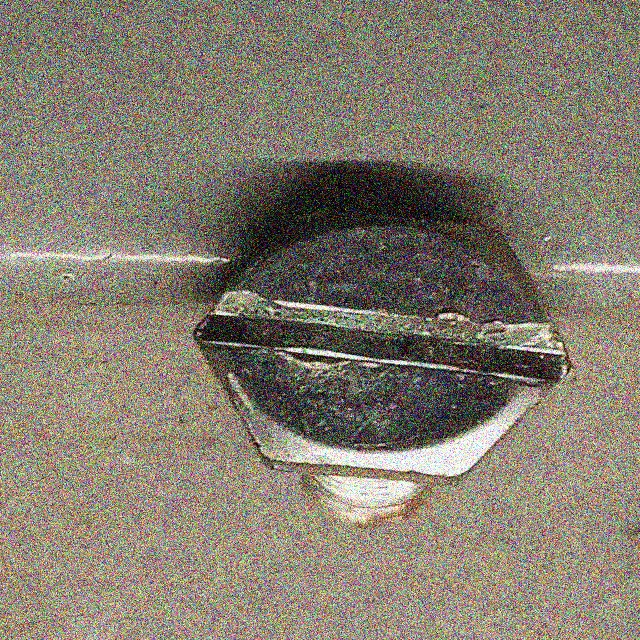duz: (193, 203, 574, 486)
